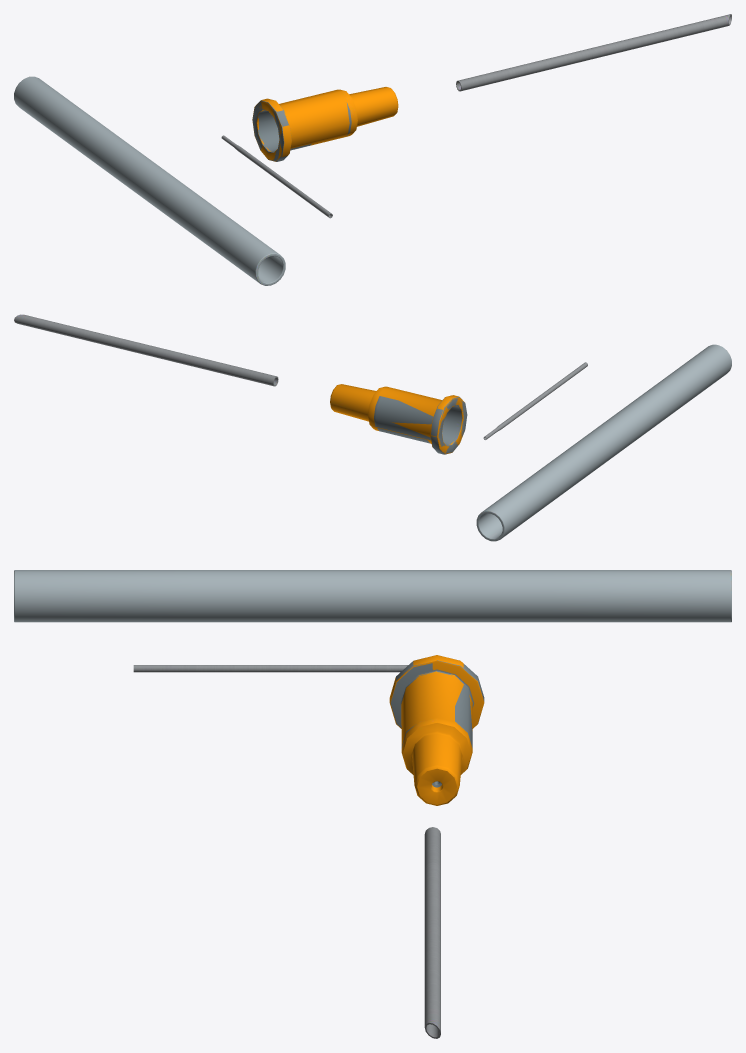
File: catheter_court.glb
3 views of the same model, one above another, from view 1: azimuth 30°, elevation 25°; view 2: azimuth 150°, elevation 25°; view 3: azimuth 270°, elevation 25° (orthographic). The views are drawn at different scales.
Parts seen in each view (by area): view 1: model_0, model_4, model_1, model_2; view 2: model_0, model_4, model_2, model_1; view 3: model_0, model_4, model_1, model_2.
Boxes of the visible parts, x1,y1,x2,y2 form: model_0: [14, 76, 332, 285]; model_4: [252, 87, 398, 161]; model_1: [456, 14, 731, 91]; model_2: [252, 100, 351, 161]; model_0: [476, 344, 731, 541]; model_4: [330, 384, 464, 454]; model_2: [374, 396, 467, 454]; model_1: [14, 314, 278, 386]; model_0: [14, 570, 731, 672]; model_4: [389, 655, 484, 805]; model_1: [424, 827, 440, 1038]; model_2: [390, 660, 484, 787].
Bounding box in the file's own units: 0.1031 × 0.00921 × 0.0697.
Materials: 1 (1 with a texture image).
